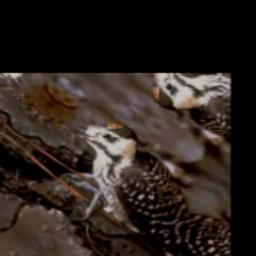Woodpecker: (4, 95, 213, 256)
